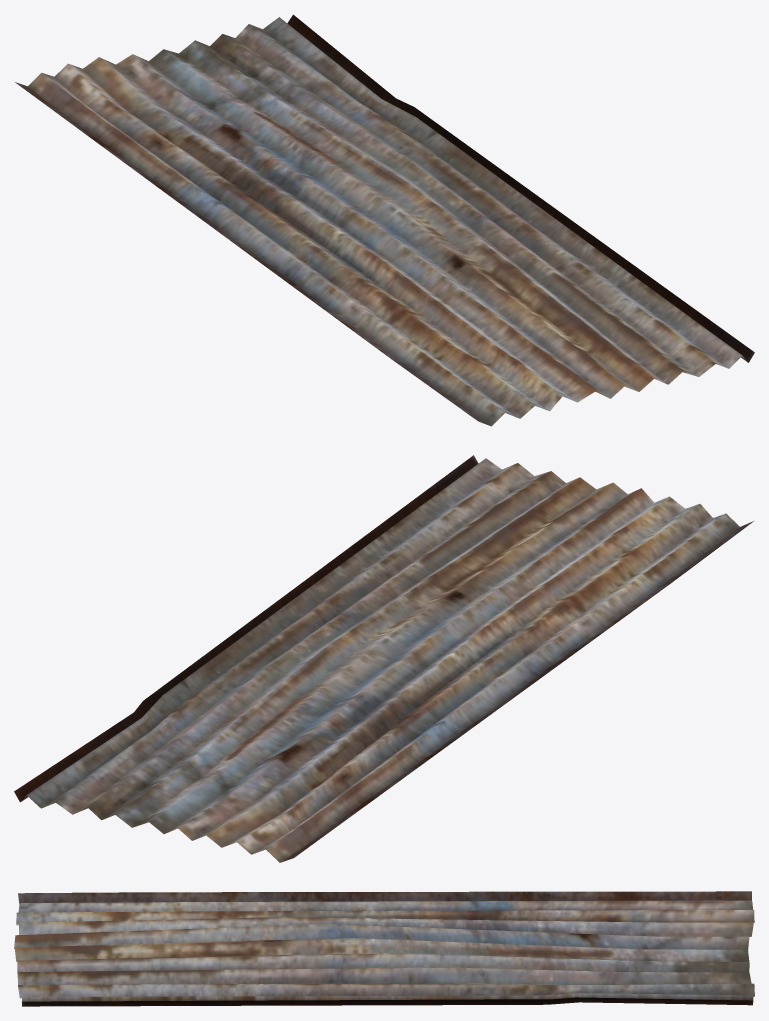
Rendered from RustedSmallSheet_03.FBX.
The picture shows the model from 3 angles, top to bottom: view 1: azimuth 30°, elevation 25°; view 2: azimuth 150°, elevation 25°; view 3: azimuth 270°, elevation 25°; orthographic projection. The views are drawn at different scales.
Parts seen in each view (by area): view 1: RustedSmallSheet_03; view 2: RustedSmallSheet_03; view 3: RustedSmallSheet_03.
Boxes of the visible parts, <box> form: RustedSmallSheet_03: <box>15,14,754,426</box>; RustedSmallSheet_03: <box>14,455,753,862</box>; RustedSmallSheet_03: <box>14,891,754,1006</box>.
Bounding box in the file's own units: 69.84 × 5.78 × 202.
